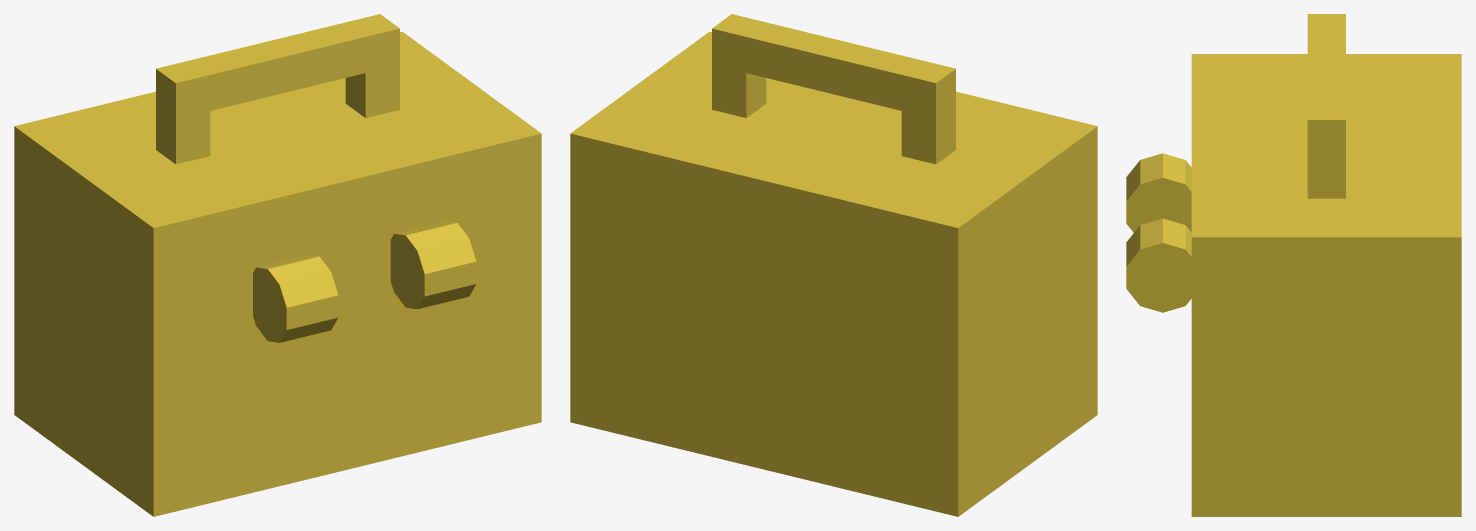
The model's file is Fuse.obj.
3 renders of one model, left to right at view 1: azimuth 30°, elevation 25°; view 2: azimuth 150°, elevation 25°; view 3: azimuth 270°, elevation 25°, orthographic. The views are drawn at different scales.
Parts seen in each view (by area): view 1: Fuse; view 2: Fuse; view 3: Fuse.
Boxes of the visible parts, <box> form: Fuse: <box>14,14,541,516</box>; Fuse: <box>570,14,1097,516</box>; Fuse: <box>1126,14,1461,516</box>.
Bounding box in the file's own units: 0.45 × 0.41 × 0.348.
